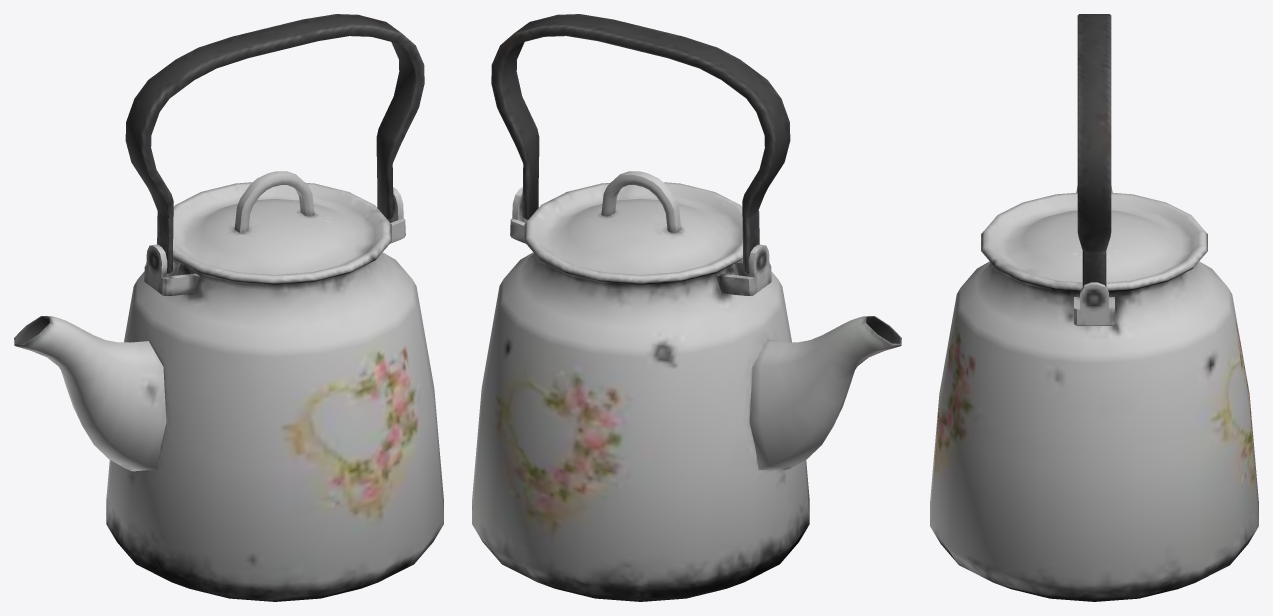
The model's file is obj_old_soviet_teapot.glb.
3 views of the same model, side by side, from view 1: azimuth 30°, elevation 25°; view 2: azimuth 150°, elevation 25°; view 3: azimuth 270°, elevation 25° (orthographic). The views are drawn at different scales.
Parts seen in each view (by area): view 1: big__0; view 2: big__0; view 3: big__0.
Boxes of the visible parts, box(x1,y1,x2,y2) form: big__0: box(14, 14, 443, 601); big__0: box(472, 14, 901, 601); big__0: box(930, 14, 1258, 601).
Size of the model in its own units: 0.1808 by 0.22 by 0.1292.
Materials: 1 (1 with a texture image).
